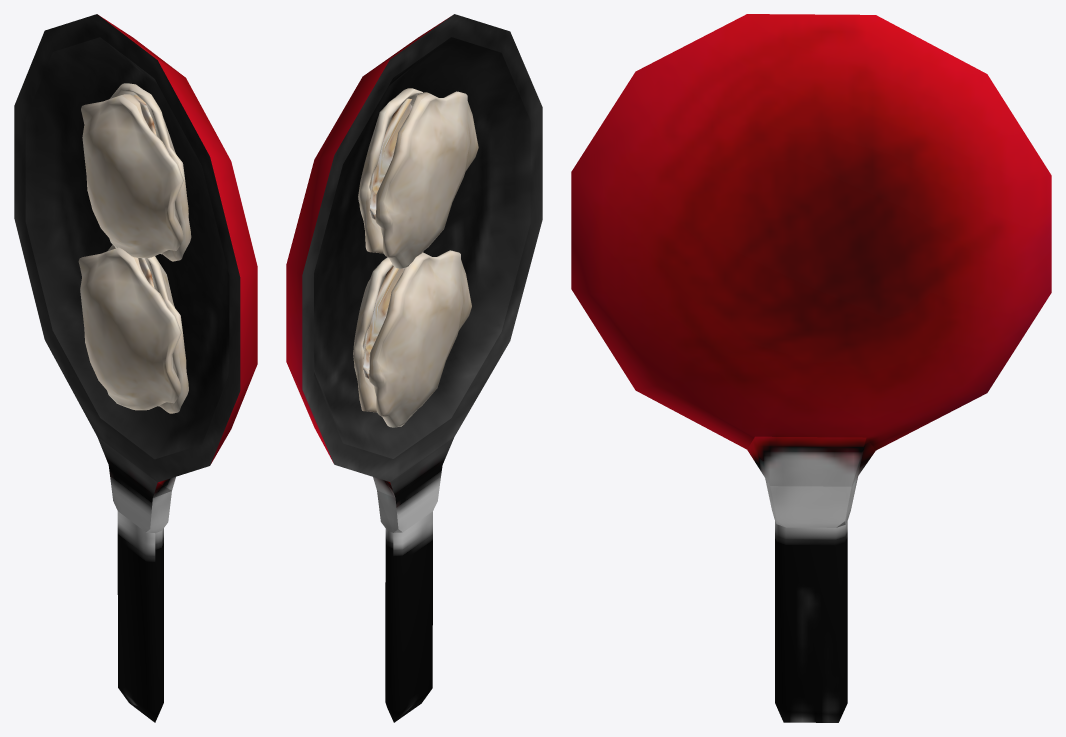
Rendered from AL_Gorditas_Static.fbx.
3 renders of one model, left to right at view 1: azimuth 30°, elevation 25°; view 2: azimuth 150°, elevation 25°; view 3: azimuth 270°, elevation 25°, orthographic. The views are drawn at different scales.
Visible parts, largest first — view 1: Taco.001; view 2: Taco.001; view 3: Taco.001.
Part boxes in pixels (bbox=[...]): Taco.001: bbox=[14, 14, 257, 722]; Taco.001: bbox=[286, 14, 542, 722]; Taco.001: bbox=[571, 14, 1051, 722].
Size of the model in its own units: 0.4341 by 0.6984 by 0.0765.
